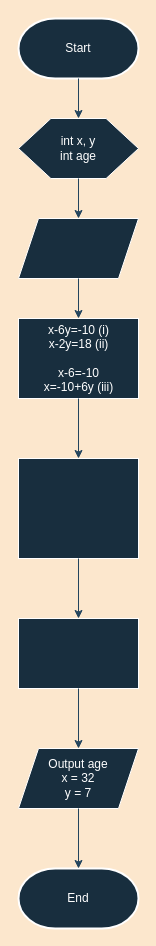
Image size: 156x946. Some labels were removed from this diagram. Each missing label, with the centre of its shape:
Input x, y: (78,248)
x-2y=18 -10+6y-2y=18 -10+4y=18 4y=18+10 4y=28 y=7 (iv): (78,508)
x=-10+6y x=-10+6(7) x=-10+42 x=32: (78,653)
